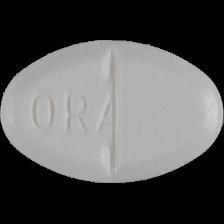57844-151: (0, 0, 224, 224)
